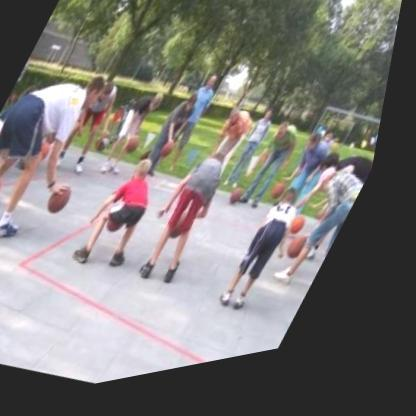basketball: (52, 185, 82, 220), (174, 220, 200, 250), (295, 247, 319, 275), (297, 224, 319, 248), (234, 195, 255, 219), (98, 138, 119, 161), (235, 194, 256, 216), (163, 144, 183, 167), (129, 140, 148, 162), (0, 176, 9, 203)
